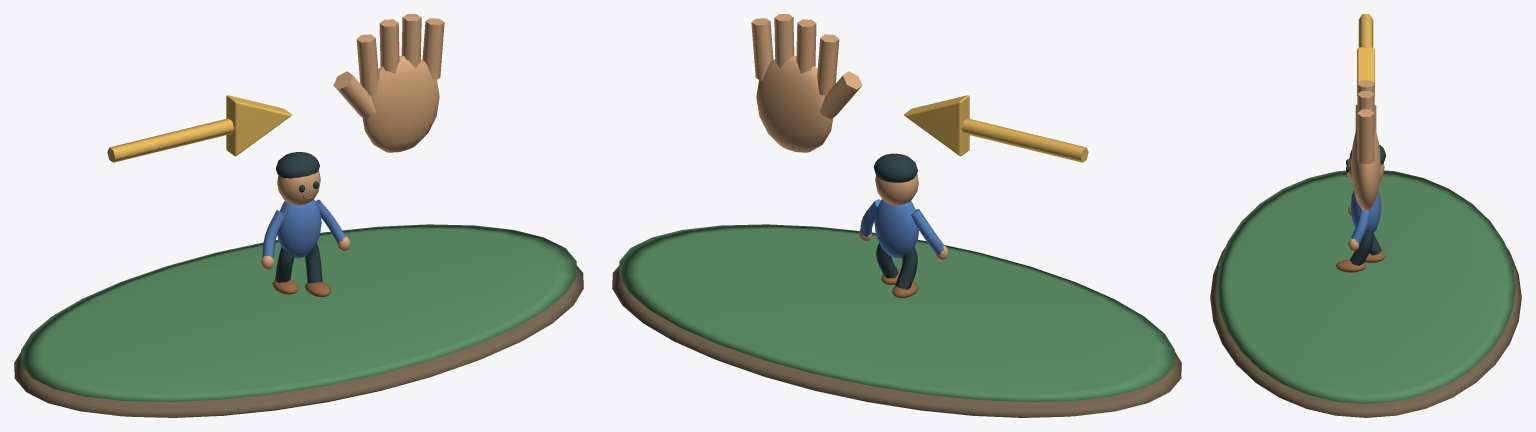
The model's file is complete-second-moving-making.glb.
The picture shows the model from 3 angles, left to right: view 1: azimuth 30°, elevation 25°; view 2: azimuth 150°, elevation 25°; view 3: azimuth 270°, elevation 25°; orthographic projection. The views are drawn at different scales.
Visible parts, largest first — view 1: complete-second-moving-making_surface_01, complete-second-moving-making_surface_03, complete-second-moving-making_surface_00, complete-second-moving-making_surface_02, complete-second-moving-making_surface_06, complete-second-moving-making_surface_04, complete-second-moving-making_surface_05; view 2: complete-second-moving-making_surface_01, complete-second-moving-making_surface_03, complete-second-moving-making_surface_00, complete-second-moving-making_surface_02, complete-second-moving-making_surface_06, complete-second-moving-making_surface_04; view 3: complete-second-moving-making_surface_01, complete-second-moving-making_surface_00, complete-second-moving-making_surface_03, complete-second-moving-making_surface_02, complete-second-moving-making_surface_06, complete-second-moving-making_surface_04, complete-second-moving-making_surface_05.
Boxes of the visible parts, bbox=[...] form: complete-second-moving-making_surface_01: bbox=[21, 224, 576, 401]; complete-second-moving-making_surface_03: bbox=[261, 14, 444, 269]; complete-second-moving-making_surface_00: bbox=[14, 265, 583, 417]; complete-second-moving-making_surface_02: bbox=[107, 95, 291, 162]; complete-second-moving-making_surface_06: bbox=[262, 199, 345, 258]; complete-second-moving-making_surface_04: bbox=[275, 152, 322, 283]; complete-second-moving-making_surface_05: bbox=[272, 193, 331, 297]; complete-second-moving-making_surface_01: bbox=[619, 224, 1174, 401]; complete-second-moving-making_surface_03: bbox=[751, 14, 948, 259]; complete-second-moving-making_surface_00: bbox=[612, 265, 1181, 417]; complete-second-moving-making_surface_02: bbox=[904, 95, 1088, 162]; complete-second-moving-making_surface_06: bbox=[860, 199, 943, 258]; complete-second-moving-making_surface_04: bbox=[873, 153, 917, 289]; complete-second-moving-making_surface_01: bbox=[1216, 170, 1515, 403]; complete-second-moving-making_surface_00: bbox=[1210, 247, 1521, 417]; complete-second-moving-making_surface_03: bbox=[1348, 80, 1384, 251]; complete-second-moving-making_surface_02: bbox=[1357, 14, 1374, 95]; complete-second-moving-making_surface_06: bbox=[1350, 190, 1381, 244]; complete-second-moving-making_surface_04: bbox=[1346, 145, 1386, 265]; complete-second-moving-making_surface_05: bbox=[1335, 172, 1385, 272].
Bounding box in the file's own units: 4.56 × 2.37 × 2.5.
